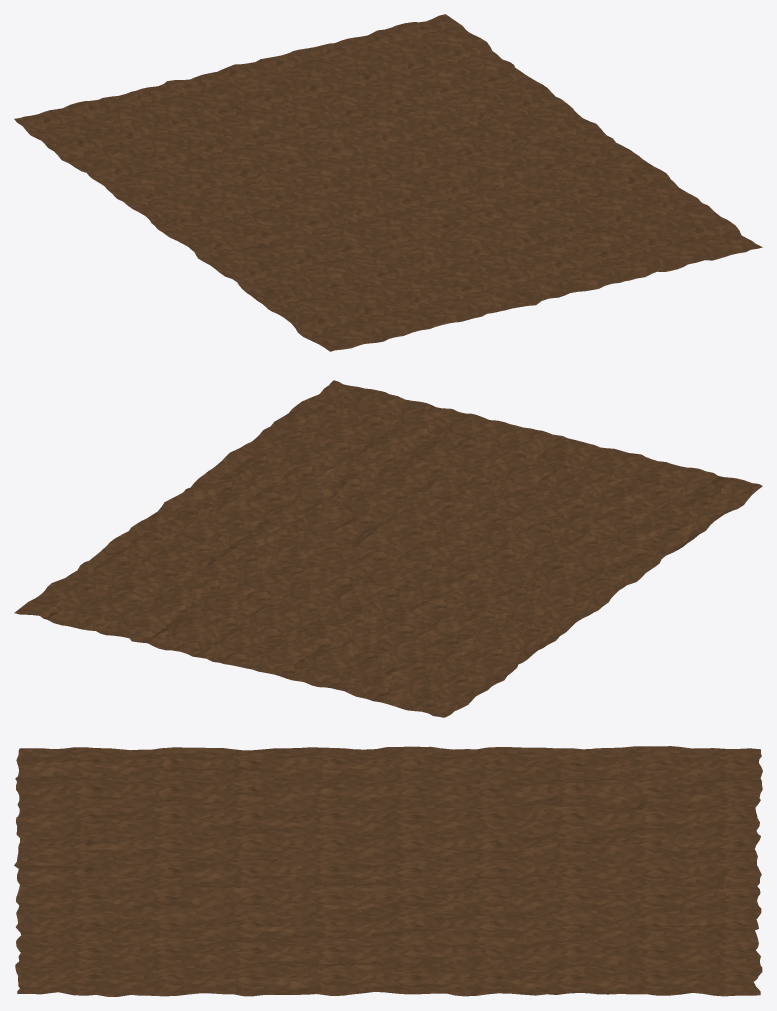
Rendered from FAREDELİĞSİYERİ.fbx.
3 views of the same model, one above another, from view 1: azimuth 30°, elevation 25°; view 2: azimuth 150°, elevation 25°; view 3: azimuth 270°, elevation 25° (orthographic). The views are drawn at different scales.
Parts seen in each view (by area): view 1: Plane.001; view 2: Plane.001; view 3: Plane.001.
Part boxes in pixels (left/top/right/bottom): Plane.001: left=14, top=14, right=762, bottom=351; Plane.001: left=14, top=380, right=762, bottom=717; Plane.001: left=14, top=746, right=762, bottom=996.
Size of the model in its own units: 9394 by 11873 by 88.26.
